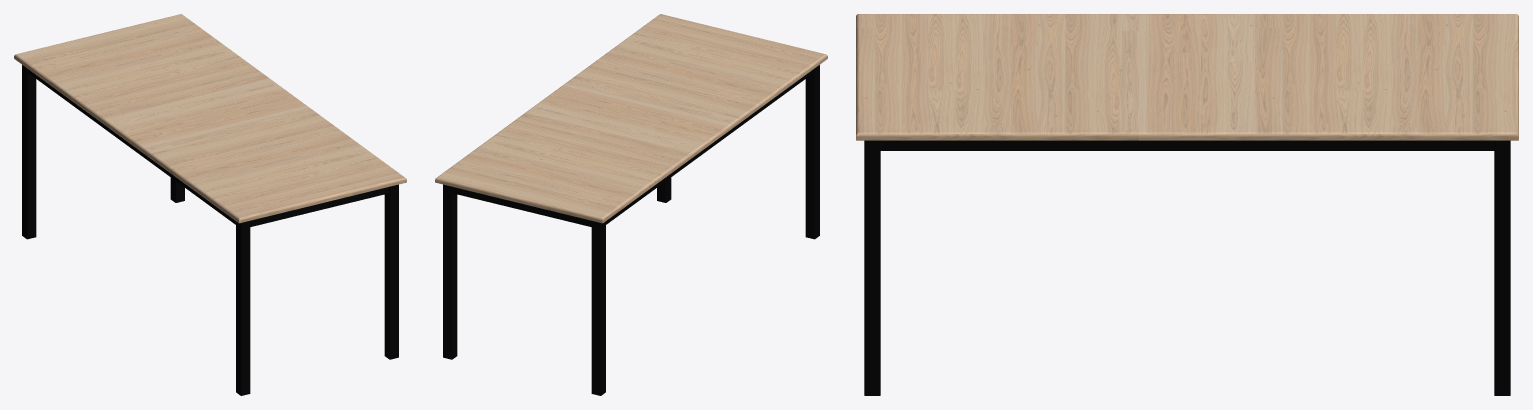
File: Table.obj
The picture shows the model from 3 angles, left to right: view 1: azimuth 30°, elevation 25°; view 2: azimuth 150°, elevation 25°; view 3: azimuth 270°, elevation 25°; orthographic projection. The views are drawn at different scales.
Visible parts, largest first — view 1: Table.001; view 2: Table.001; view 3: Table.001.
Boxes of the visible parts, x1,y1,x2,y2 form: Table.001: [14, 14, 406, 395]; Table.001: [435, 14, 827, 395]; Table.001: [856, 14, 1518, 395].
Bounding box in the file's own units: 2.81 × 2.89 × 6.53.
